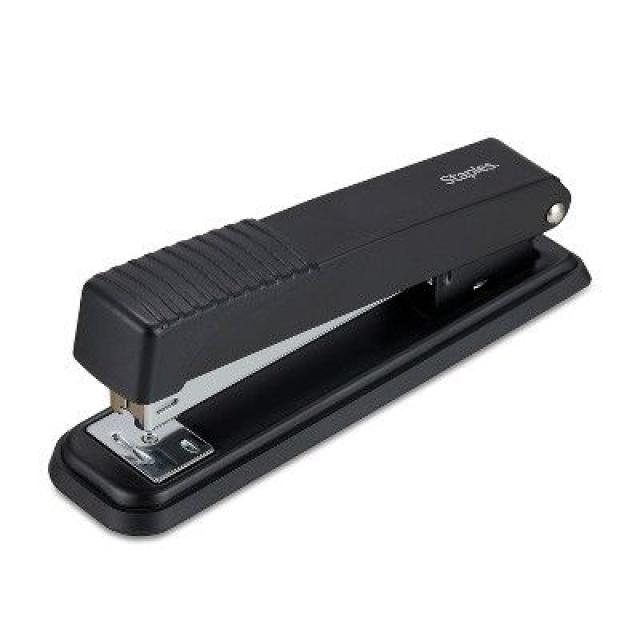Stapler: (12, 133, 594, 559)
